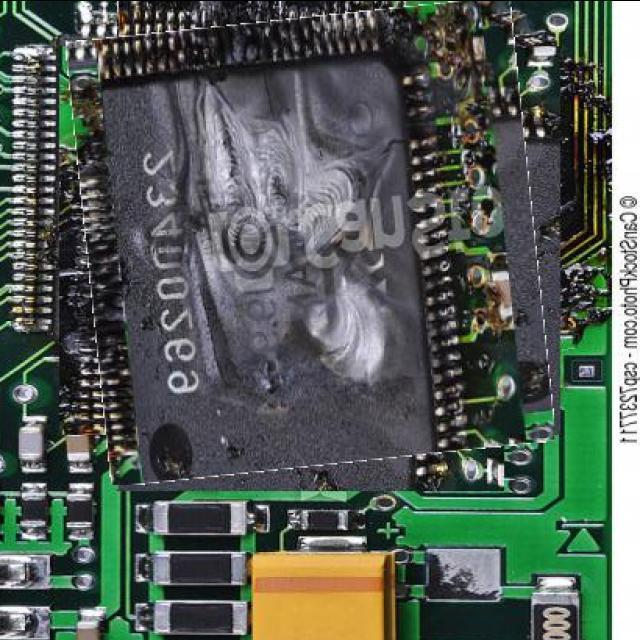Burn: (77, 7, 544, 474)
